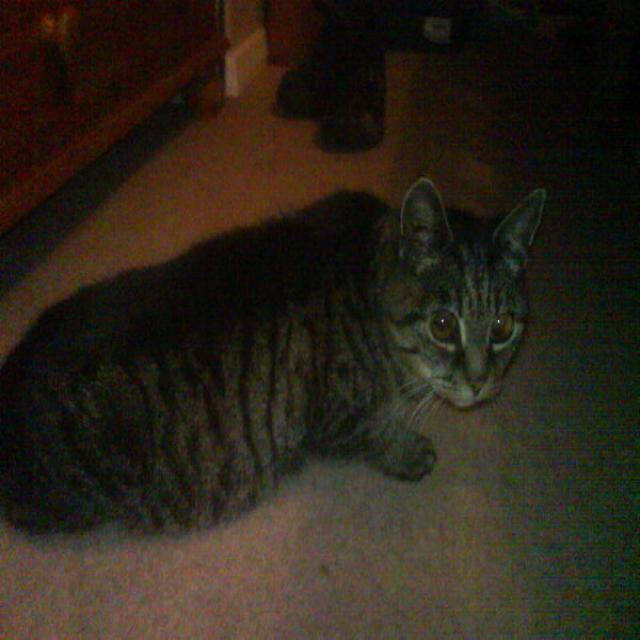Cat: (7, 154, 558, 523)
